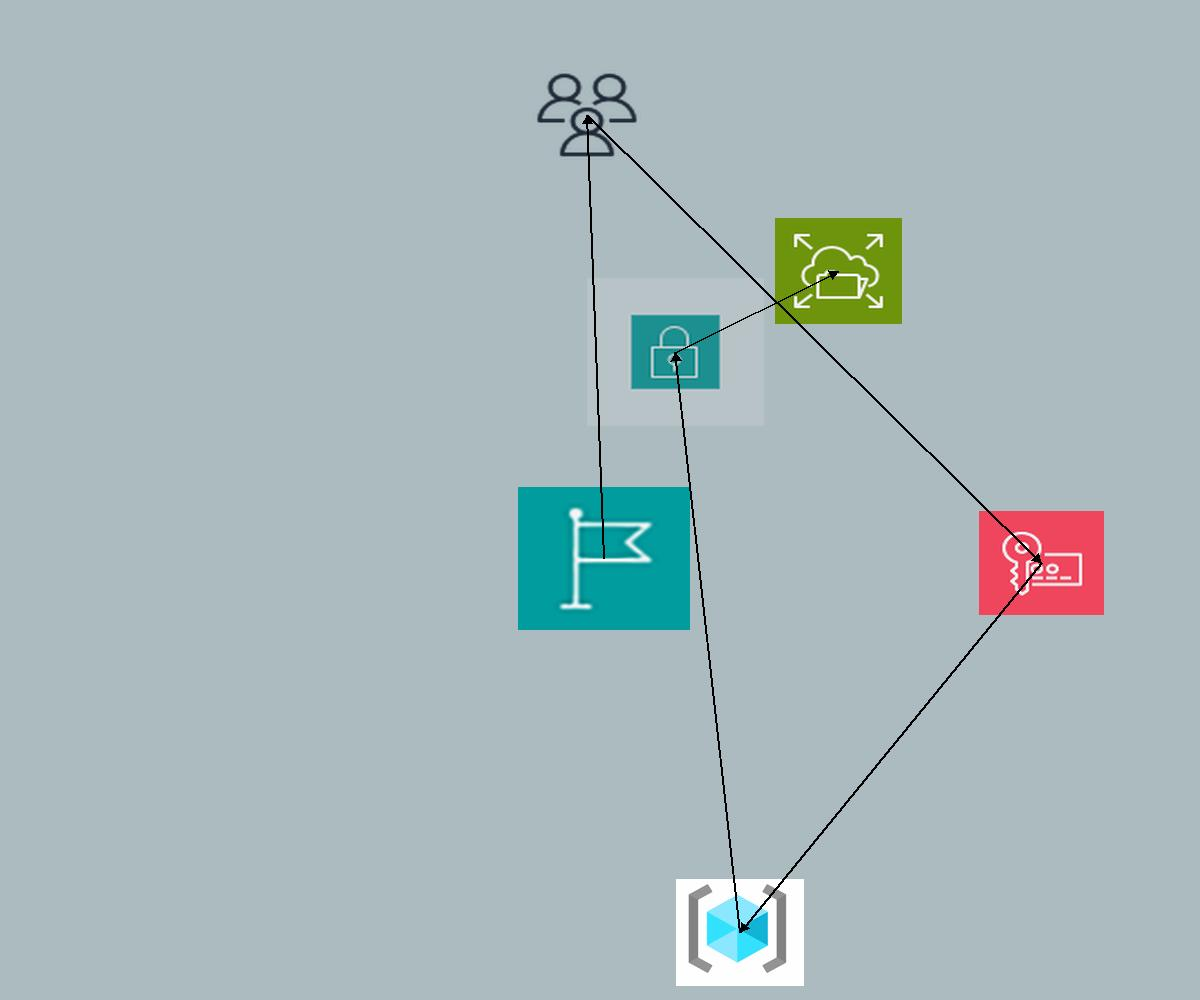AWS-EFS: (775, 218, 902, 324)
AWS-Key-Management-Service: (979, 511, 1104, 615)
AWS-Private-subnet: (587, 278, 764, 426)
AWS-Region: (518, 487, 690, 630)
AWS-Res_Users: (533, 70, 641, 160)
Azure_resource_group: (676, 879, 804, 986)
